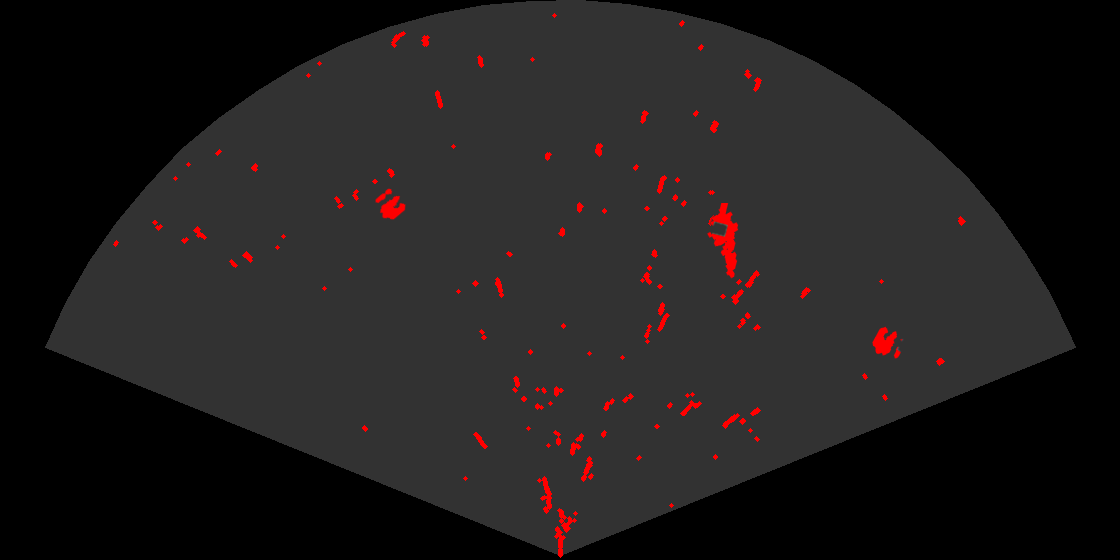ball: (871, 325, 904, 360), (374, 187, 407, 221)
frogman: (706, 203, 740, 280)
